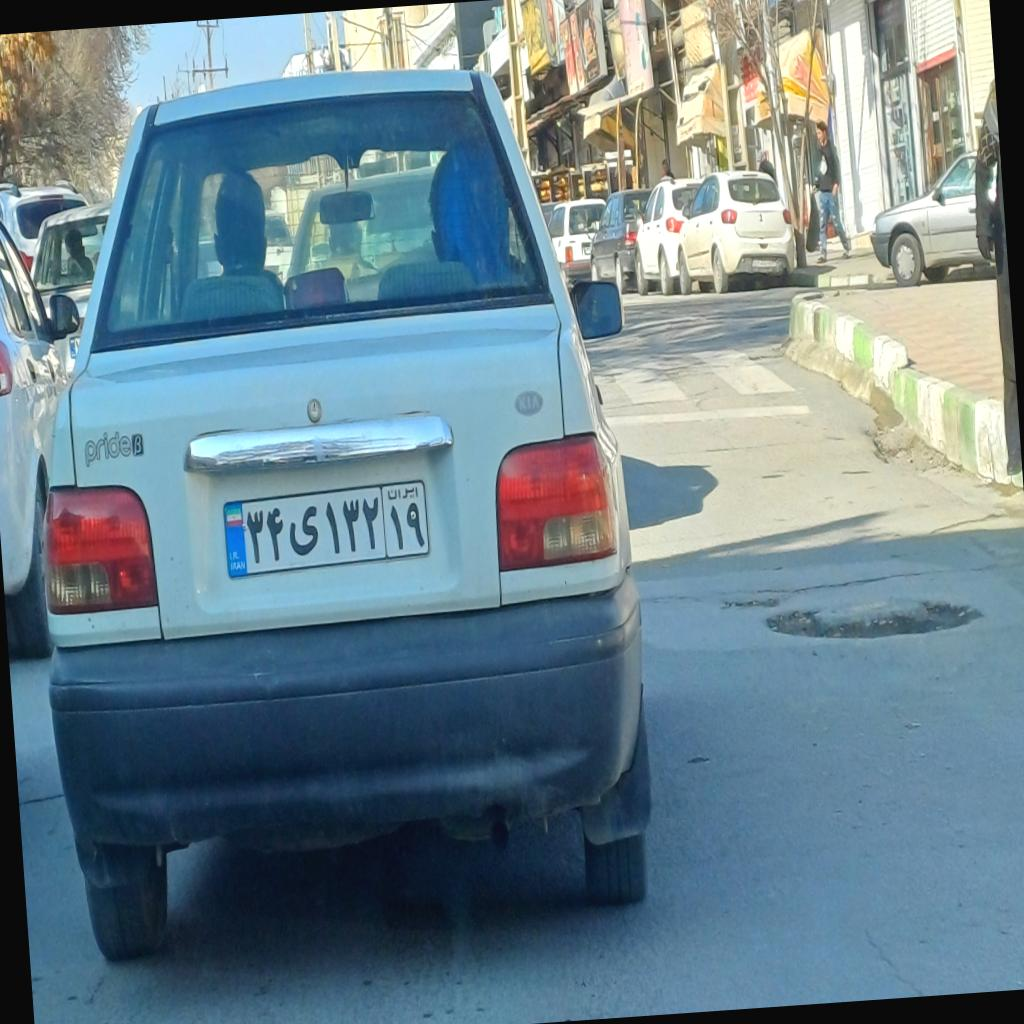Plates: (223, 478, 430, 580)
